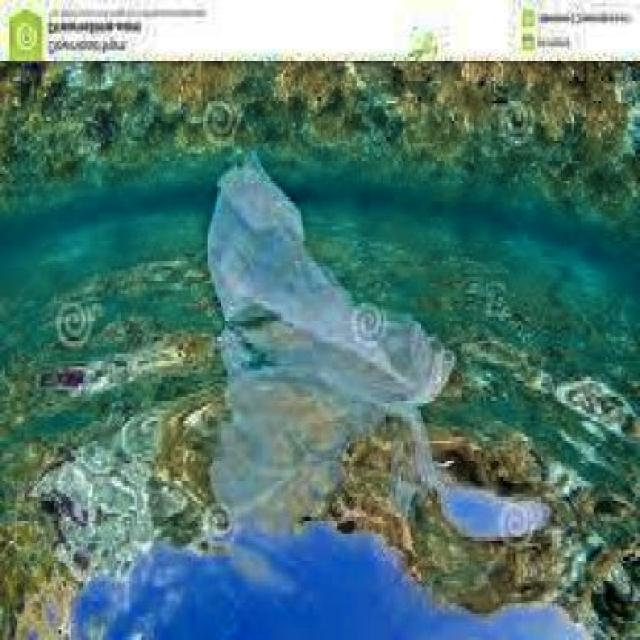pbag: (205, 150, 440, 387)
